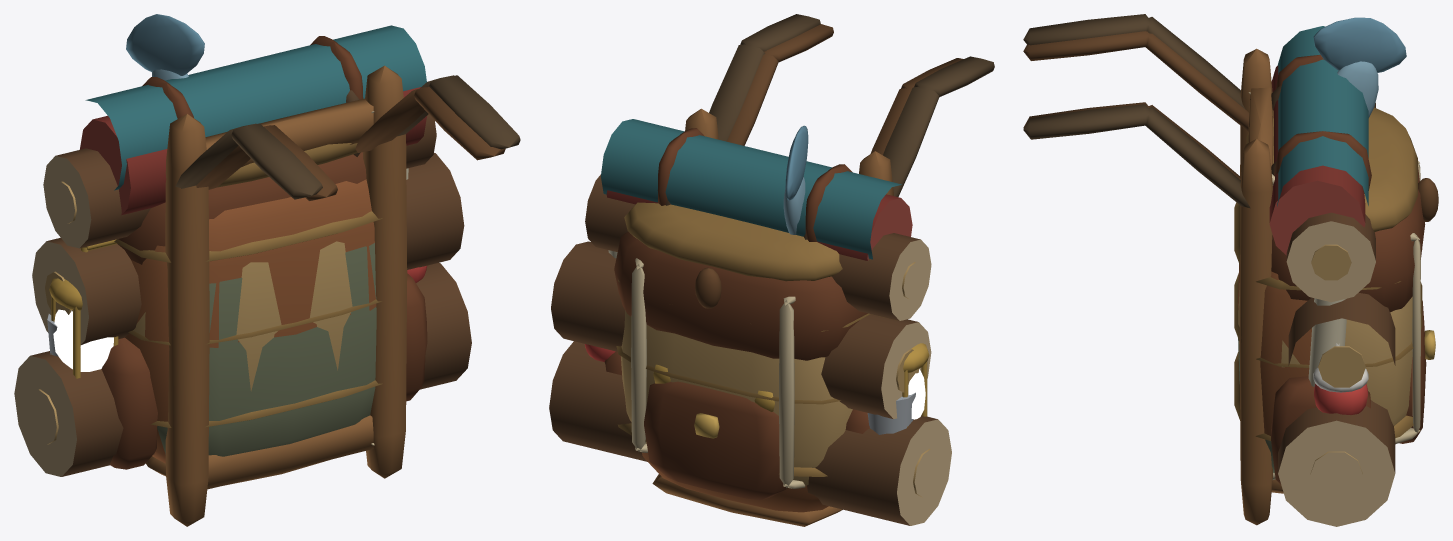
File: gear_back.glb
The picture shows the model from 3 angles, left to right: view 1: azimuth 30°, elevation 25°; view 2: azimuth 150°, elevation 25°; view 3: azimuth 270°, elevation 25°; orthographic projection. The views are drawn at different scales.
Parts seen in each view (by area): view 1: Back_for_frame, Back_way_pack, Back_pro_lamp, Back_ang_creel; view 2: Back_for_frame, Back_way_pack, Back_ang_creel, Back_pro_lamp; view 3: Back_for_frame, Back_ang_creel, Back_way_pack, Back_pro_lamp.
Part boxes in pixels (x1,y1,x2,y2): Back_for_frame: (14,65,520,526); Back_way_pack: (47,25,427,469); Back_pro_lamp: (49,87,426,456); Back_ang_creel: (114,14,505,427); Back_for_frame: (549,14,994,526); Back_way_pack: (600,119,915,512); Back_ang_creel: (584,24,963,485); Back_pro_lamp: (606,190,929,427); Back_for_frame: (1023,14,1420,526); Back_ang_creel: (1023,17,1438,440); Back_way_pack: (1237,26,1435,484); Back_pro_lamp: (1238,65,1365,473).
Bounding box in the file's own units: 0.406 × 0.4485 × 0.3896.
